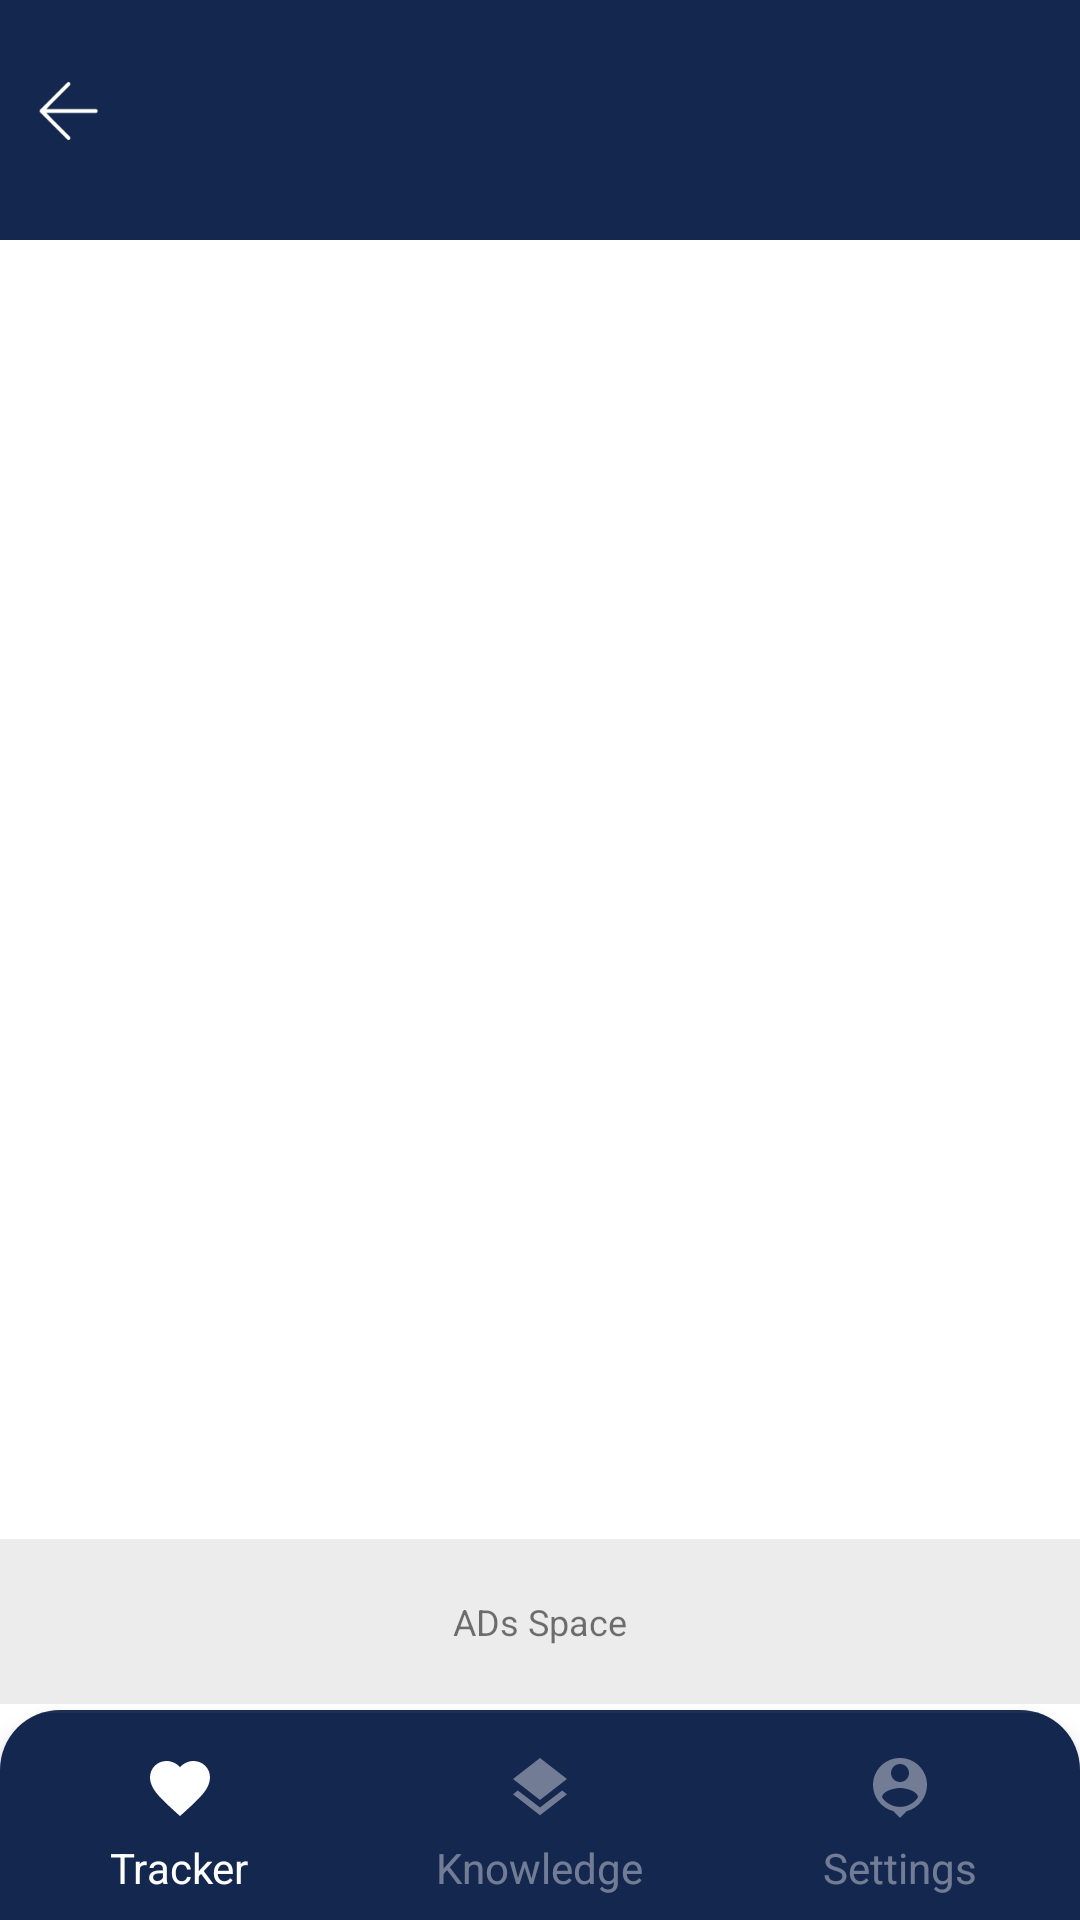

Locate icon controls on the screen. Image size 1080px x 1920px, boxes as detection(x1, y1, x2, y2).
back: detection(39, 82, 98, 140)
favorite: detection(150, 1761, 210, 1816)
learn: detection(513, 1758, 567, 1815)
person pin: detection(873, 1758, 927, 1818)
